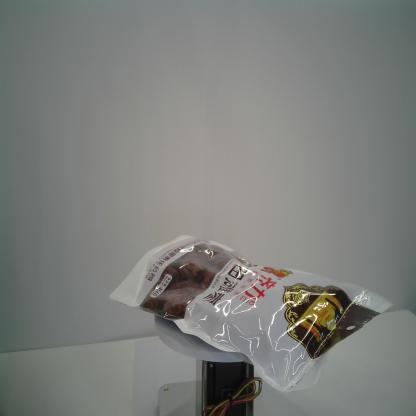Dried Food: (107, 231, 415, 396)
